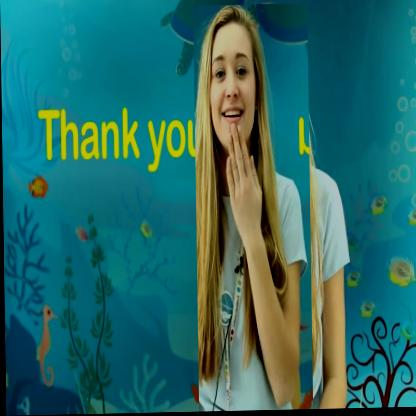ThankYou: (193, 5, 312, 413)
